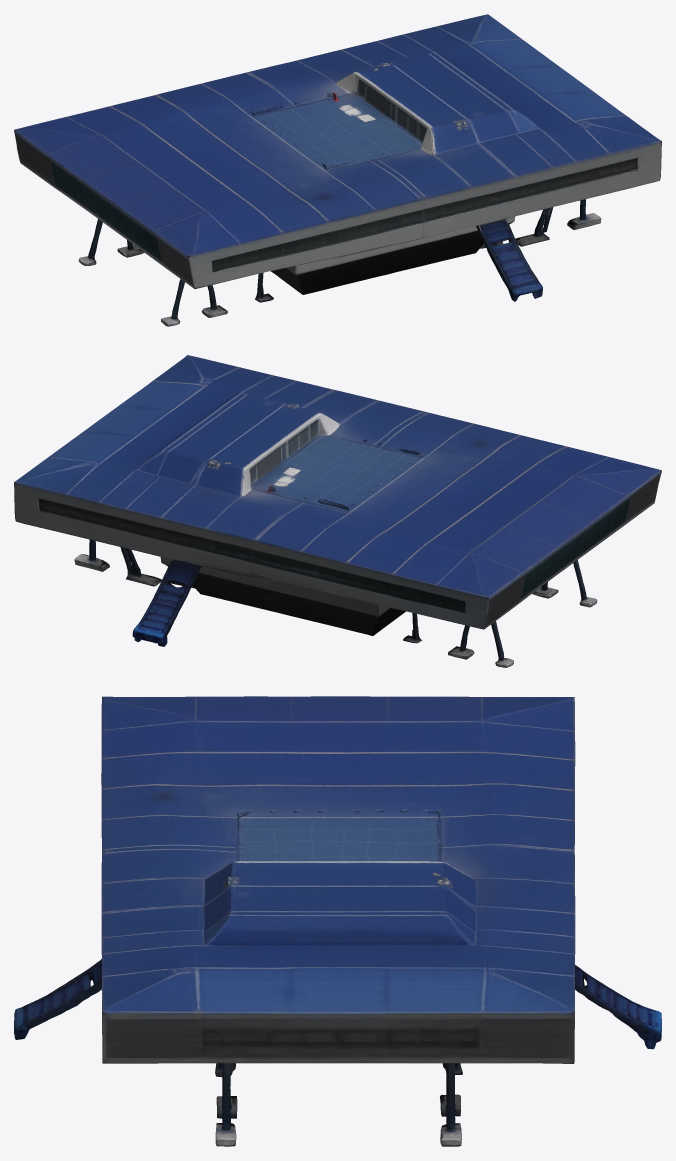
Rendered from bharati.glb.
The picture shows the model from 3 angles, top to bottom: view 1: azimuth 30°, elevation 25°; view 2: azimuth 150°, elevation 25°; view 3: azimuth 270°, elevation 25°; orthographic projection. The views are drawn at different scales.
Parts seen in each view (by area): view 1: world; view 2: world; view 3: world.
Part boxes in pixels (x1,y1,x2,y2): world: [14, 14, 661, 326]; world: [14, 355, 661, 667]; world: [14, 696, 661, 1146].
Size of the model in its own units: 0.9936 by 0.2714 by 0.8621.
Materials: 1 (1 with a texture image).
